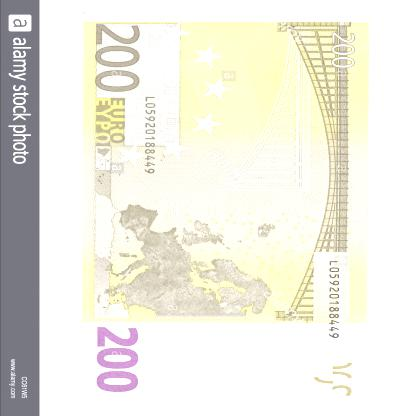euro_banknote: (28, 68, 416, 363)
